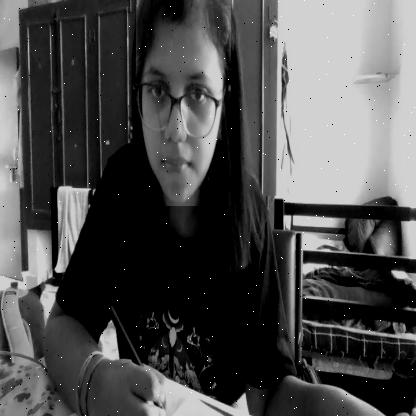Normal: (136, 0, 231, 206)
